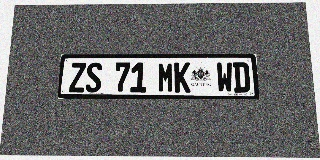1: (130, 62, 146, 93)
7: (114, 62, 130, 92)
D: (233, 62, 250, 93)
K: (174, 62, 190, 93)
M: (158, 62, 174, 93)
S: (85, 63, 102, 92)
W: (216, 62, 233, 93)
Z: (69, 63, 86, 92)
